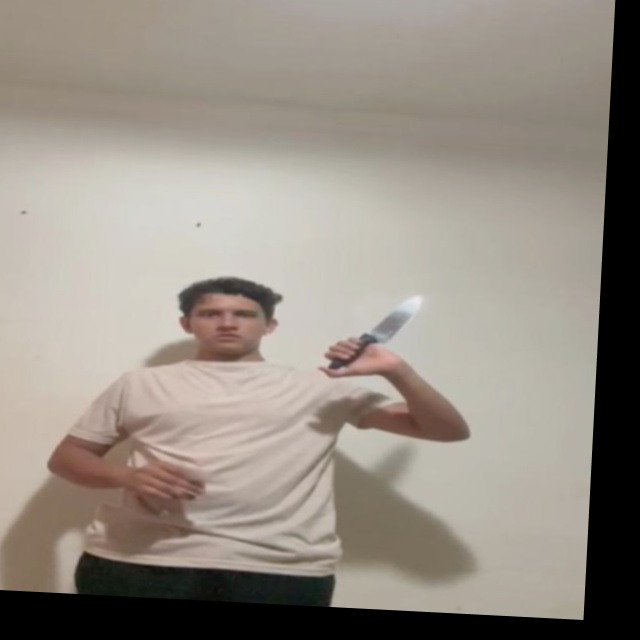Sharp-Object: (369, 294, 425, 339)
